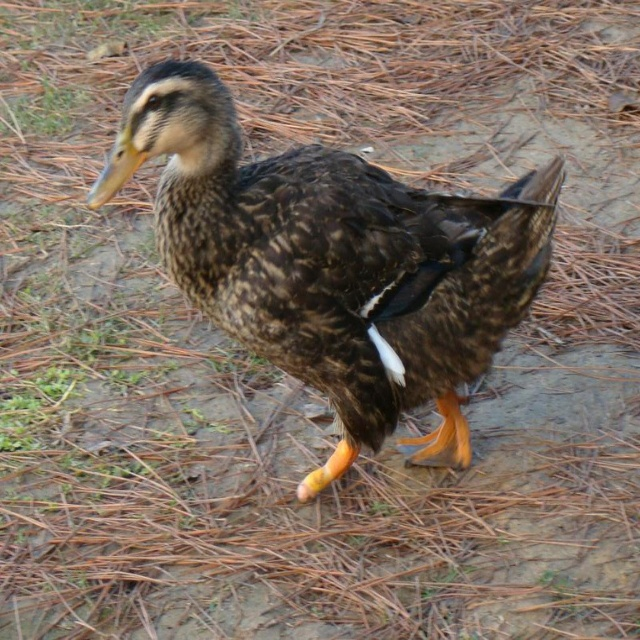Duck: (65, 56, 570, 503)
